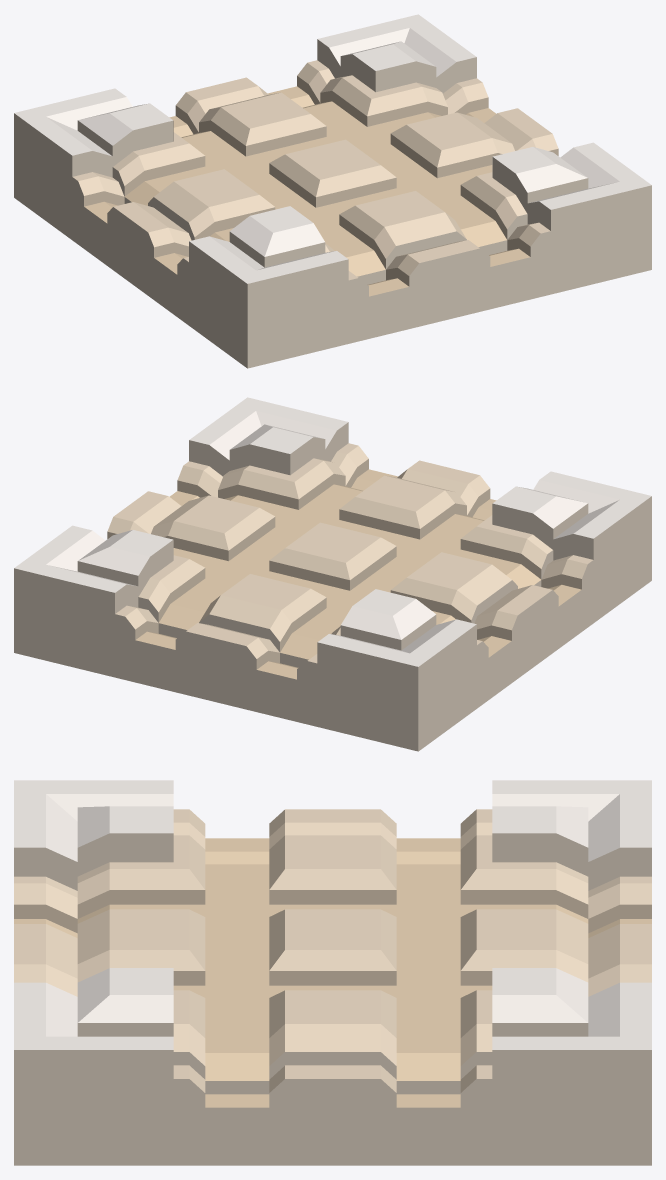
The model's file is Puzzle_Track_Button_Cross.glb.
The picture shows the model from 3 angles, top to bottom: view 1: azimuth 30°, elevation 25°; view 2: azimuth 150°, elevation 25°; view 3: azimuth 270°, elevation 25°; orthographic projection. The views are drawn at different scales.
Visible parts, largest first — view 1: Puzzle_Track_Button_Cross; view 2: Puzzle_Track_Button_Cross; view 3: Puzzle_Track_Button_Cross.
Boxes of the visible parts, x1=… form: Puzzle_Track_Button_Cross: x1=14, y1=14, x2=651, y2=368; Puzzle_Track_Button_Cross: x1=14, y1=397, x2=651, y2=751; Puzzle_Track_Button_Cross: x1=14, y1=780, x2=651, y2=1165.
Bounding box in the file's own units: 1 × 0.225 × 1.
